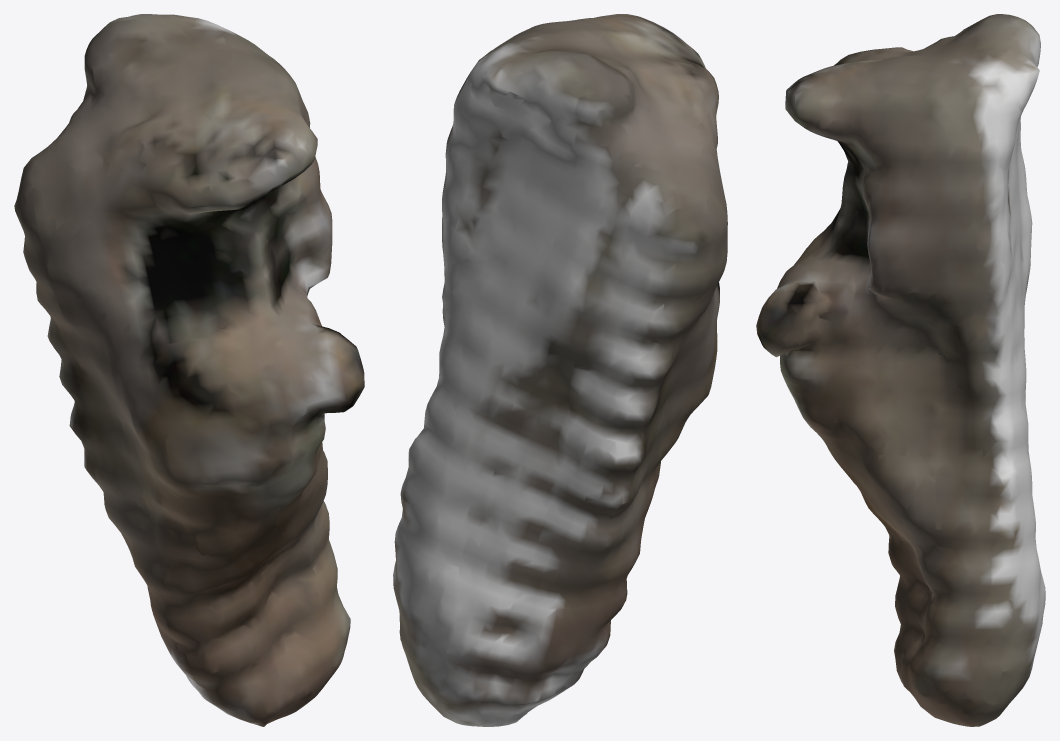
Rendered from shoe3.glb.
3 views of the same model, side by side, from view 1: azimuth 30°, elevation 25°; view 2: azimuth 150°, elevation 25°; view 3: azimuth 270°, elevation 25° (orthographic). The views are drawn at different scales.
Size of the model in its own units: 0.4653 by 1 by 0.4033.
